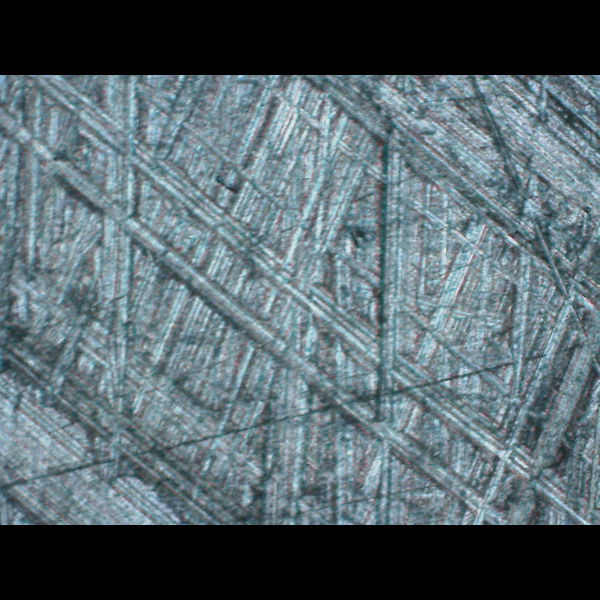d: (54, 94, 533, 506)
